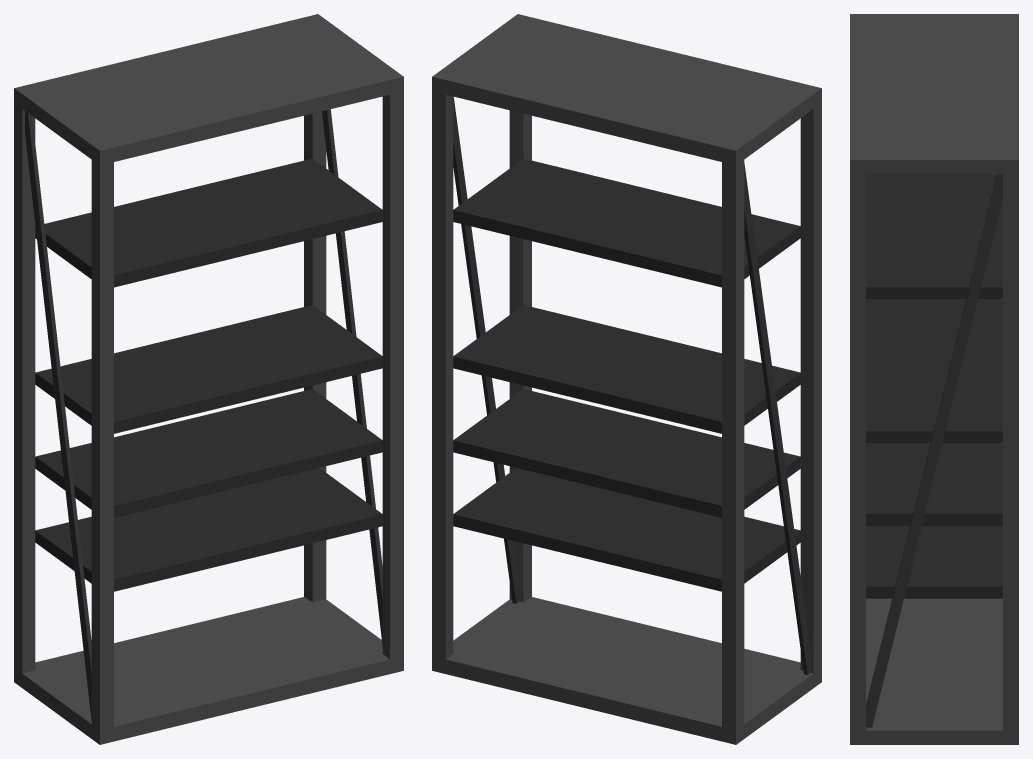
The model's file is shelf_A.FBX.
The picture shows the model from 3 angles, left to right: view 1: azimuth 30°, elevation 25°; view 2: azimuth 150°, elevation 25°; view 3: azimuth 270°, elevation 25°; orthographic projection.
Parts seen in each view (by area): view 1: shelf_A; view 2: shelf_A; view 3: shelf_A.
Boxes of the visible parts, <box> form: shelf_A: <box>14,14,403,744</box>; shelf_A: <box>432,14,821,744</box>; shelf_A: <box>850,14,1018,744</box>.
Bounding box in the file's own units: 49.99 × 93.34 × 24.4.
